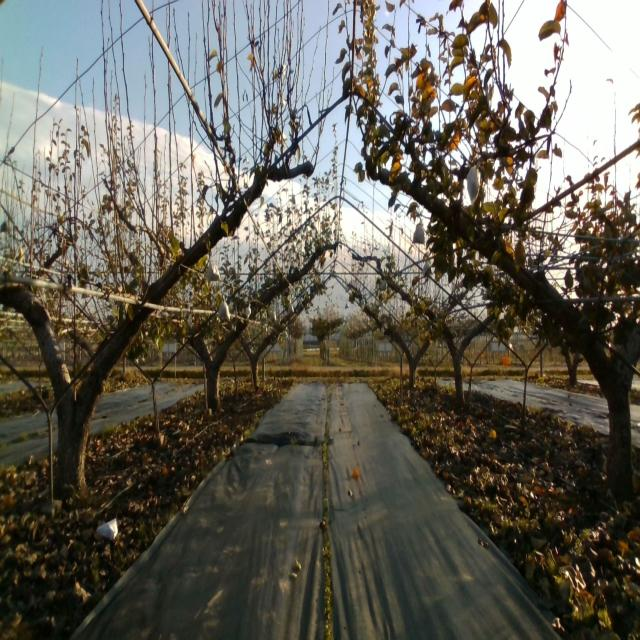pearbags: (464, 161, 480, 203), (206, 257, 221, 281), (218, 294, 230, 322), (413, 218, 425, 246)
